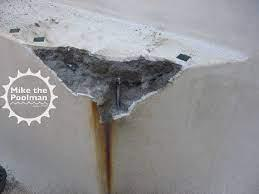Corrosion: (91, 100, 116, 194)
Exposed reinforcement: (115, 77, 121, 109)
Spalling: (22, 42, 183, 122)
